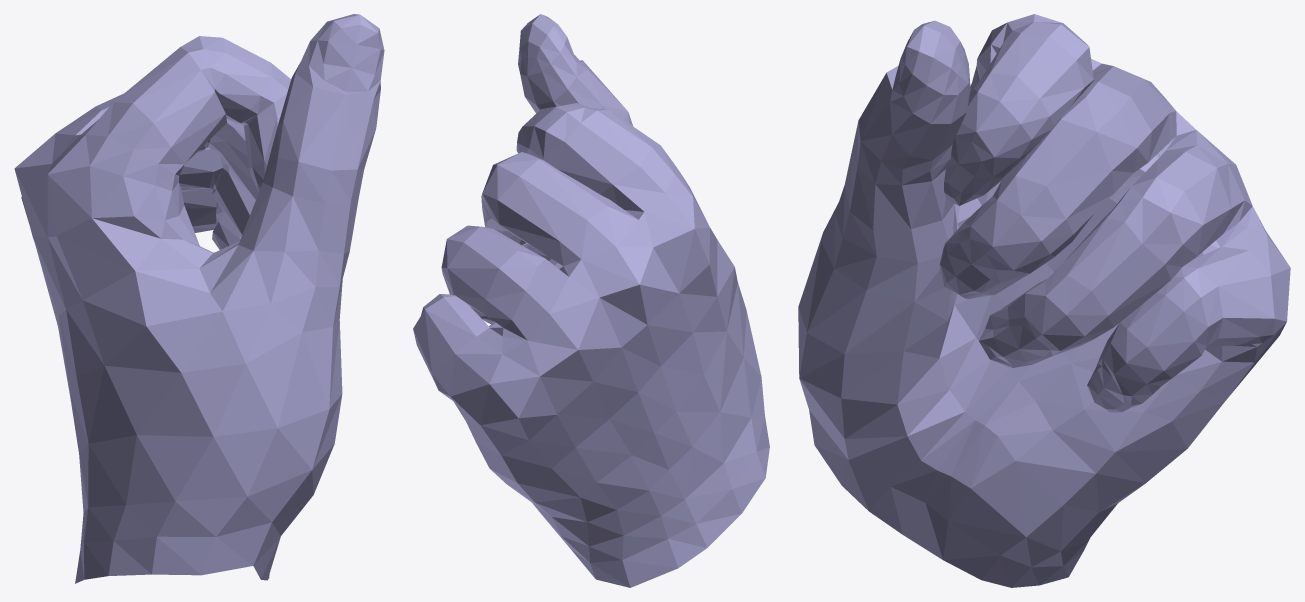
File: frame_0017_source_000017_hand.glb
The picture shows the model from 3 angles, left to right: view 1: azimuth 30°, elevation 25°; view 2: azimuth 150°, elevation 25°; view 3: azimuth 270°, elevation 25°; orthographic projection. The views are drawn at different scales.
Visible parts, largest first — view 1: world; view 2: world; view 3: world.
Boxes of the visible parts, x1=… form: world: x1=14, y1=14, x2=384, y2=583; world: x1=413, y1=14, x2=769, y2=587; world: x1=798, y1=14, x2=1290, y2=587.
Bounding box in the file's own units: 0.0627 × 0.1253 × 0.0901.
